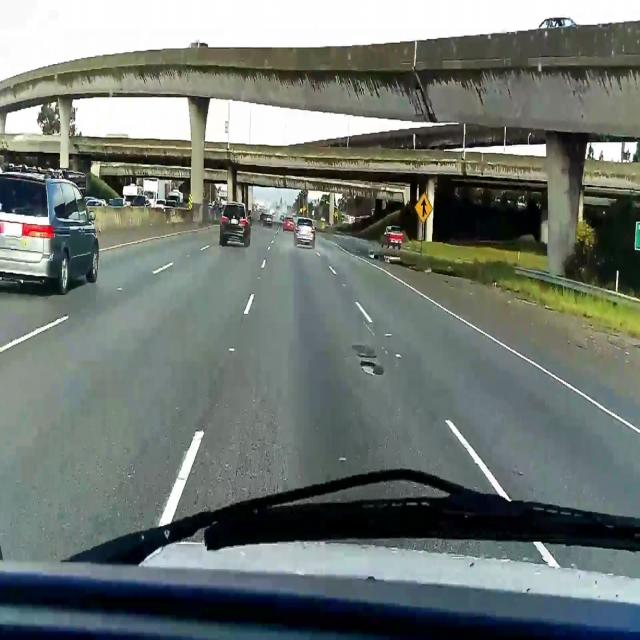Pothole: (360, 359, 380, 376)
